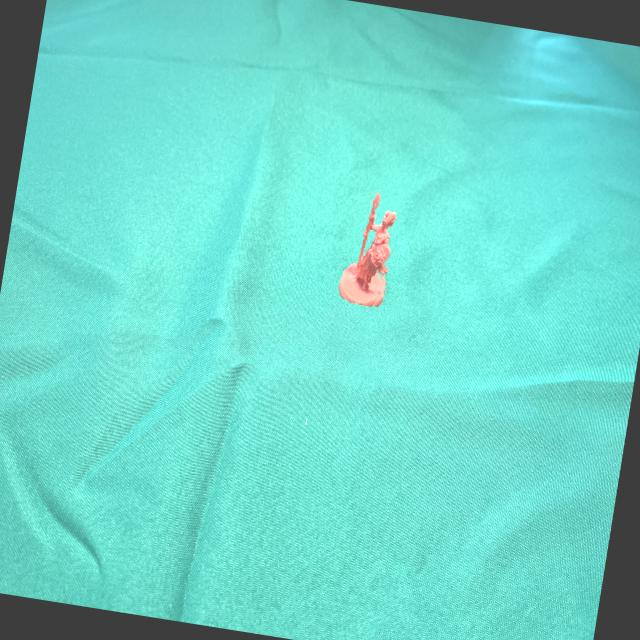amon_follower: (338, 194, 397, 308)
